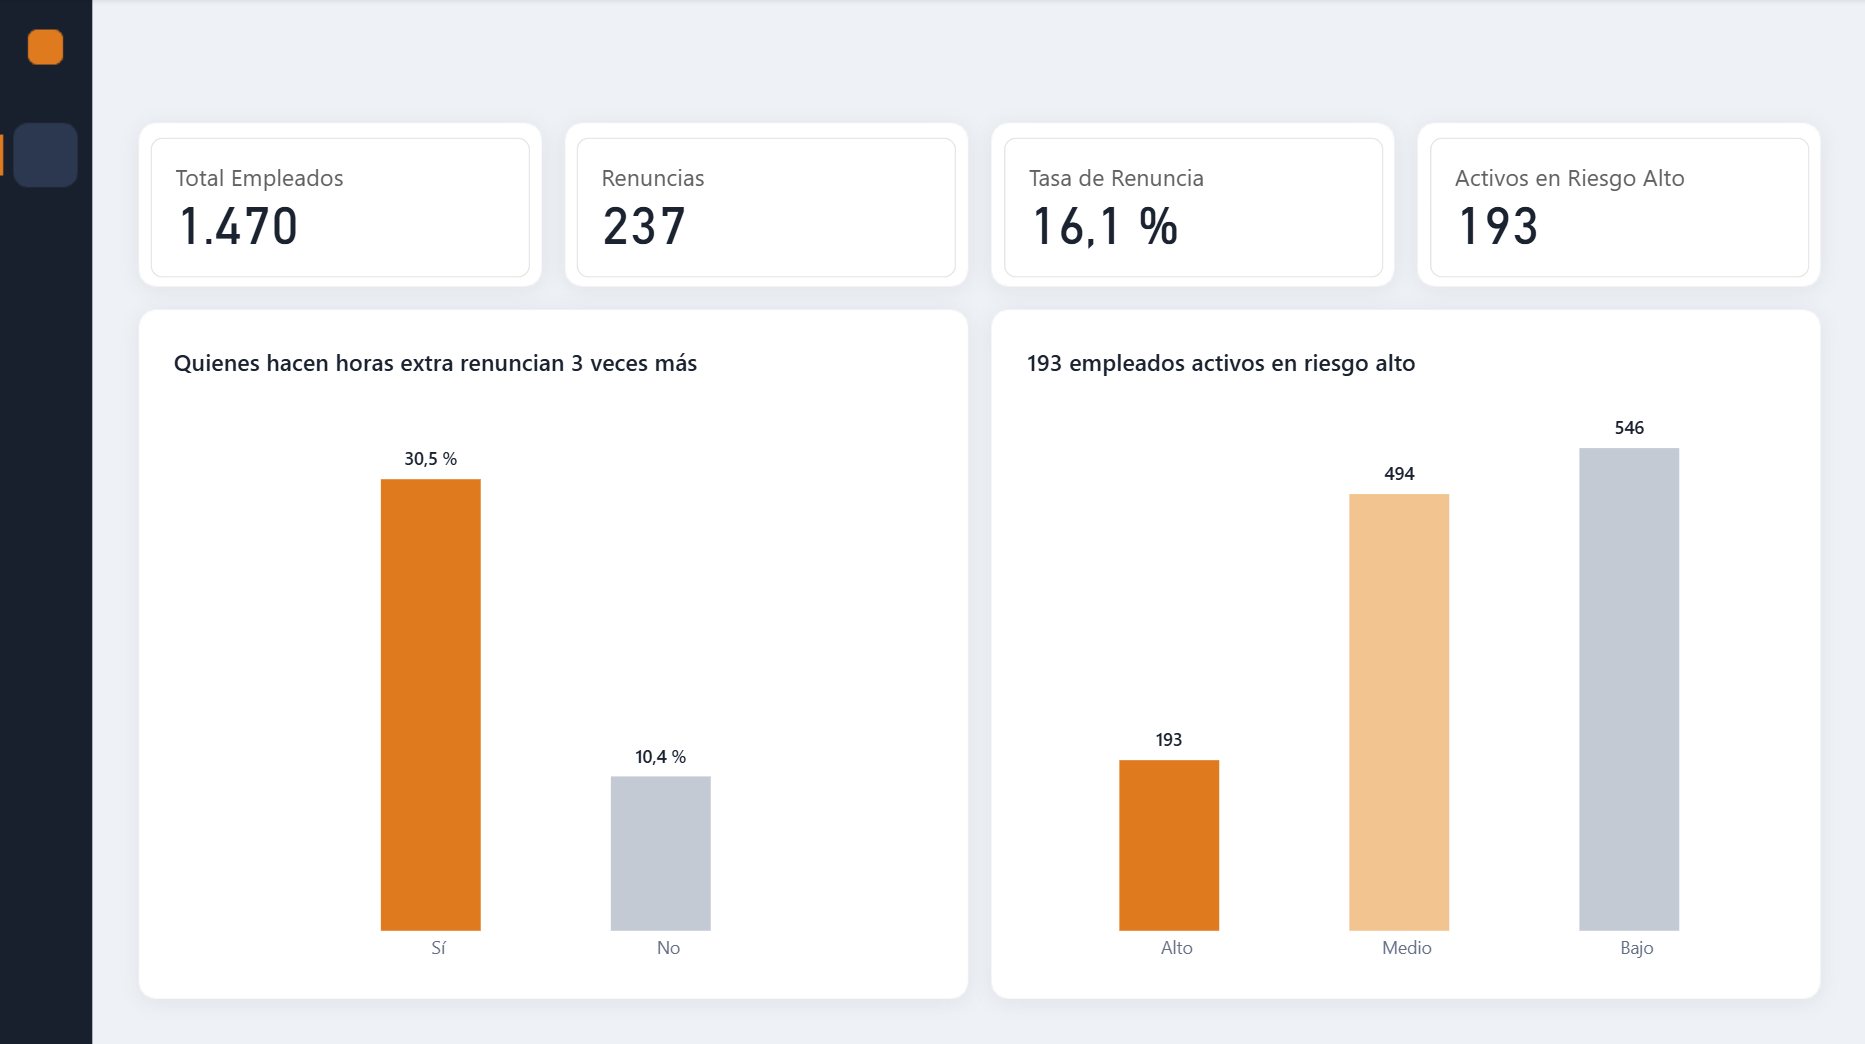

The page's visual inventory and layout, read from the dashboard file:
{"tool":"powerbi","page":{"name":"Resumen","canvas":[1280,720],"ordinal":0},"visuals":[{"type":"cardVisual","fields":{"Data":["Empleados.Total Empleados"]},"box":[104,96,260,96],"z":0},{"type":"cardVisual","fields":{"Data":["Empleados.Renuncias"]},"box":[396,96,260,96],"z":1000},{"type":"cardVisual","fields":{"Data":["Empleados.Tasa de Renuncia"]},"box":[688,96,260,96],"z":2000},{"type":"cardVisual","fields":{"Data":["Empleados.Activos en Riesgo Alto"]},"box":[980,96,260,96],"z":3000},{"type":"clusteredColumnChart","title":"Quienes hacen horas extra renuncian 3 veces más","fields":{"Category":["Empleados.OverTime"],"Y":["Empleados.Tasa de Renuncia"]},"box":[104,224,552,456],"z":4000},{"type":"clusteredColumnChart","title":"193 empleados activos en riesgo alto","fields":{"Category":["Riesgo de renuncia.nivel_riesgo"],"Y":["CountNonNull(Riesgo de renuncia.EmployeeNumber)"]},"box":[688,224,552,456],"z":5000}]}

Visuals, with their boxes on the page's 1280x720 design canvas (x1, y1, x2, y2). These are canvas units, not pixel positions in the 1865x1044 screenshot, which may show the page scaled, cropped or inside an application window:
cardVisual - Empleados.Total Empleados: rect(104, 96, 364, 192)
cardVisual - Empleados.Renuncias: rect(396, 96, 656, 192)
cardVisual - Empleados.Tasa de Renuncia: rect(688, 96, 948, 192)
cardVisual - Empleados.Activos en Riesgo Alto: rect(980, 96, 1240, 192)
"Quienes hacen horas extra renuncian 3 veces más" clusteredColumnChart: rect(104, 224, 656, 680)
"193 empleados activos en riesgo alto" clusteredColumnChart: rect(688, 224, 1240, 680)
